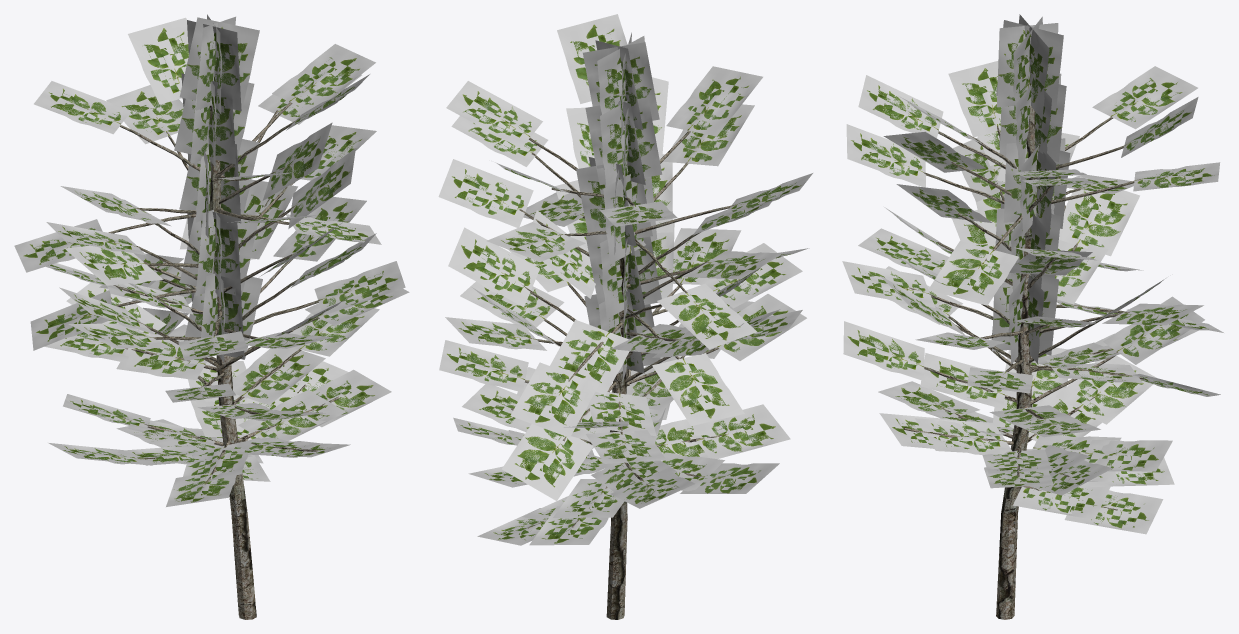
The model's file is tree.fbx.
The picture shows the model from 3 angles, left to right: view 1: azimuth 30°, elevation 25°; view 2: azimuth 150°, elevation 25°; view 3: azimuth 270°, elevation 25°; orthographic projection.
Parts seen in each view (by area): view 1: polySurface409, polySurface380, polySurface219, polySurface375, polySurface255, polySurface395, polySurface336, polySurface239, polySurface393, polySurface384, polySurface241, polySurface225 (+68 smaller); view 2: polySurface421, polySurface300, polySurface366, polySurface367, polySurface310, polySurface382, polySurface321, polySurface219, polySurface401, polySurface302, polySurface409, polySurface417 (+75 smaller); view 3: polySurface422, polySurface409, polySurface227, polySurface317, polySurface395, polySurface391, polySurface231, polySurface405, polySurface399, polySurface382, polySurface243, polySurface420 (+66 smaller).
Boxes of the visible parts, <box> form: polySurface409: <box>209,105,256,619</box>; polySurface380: <box>128,17,188,104</box>; polySurface219: <box>272,44,375,110</box>; polySurface375: <box>232,347,325,405</box>; polySurface255: <box>179,17,259,109</box>; polySurface395: <box>34,81,131,134</box>; polySurface336: <box>314,261,405,315</box>; polySurface239: <box>238,390,345,440</box>; polySurface393: <box>106,85,183,144</box>; polySurface384: <box>64,242,163,285</box>; polySurface241: <box>300,369,391,427</box>; polySurface225: <box>262,122,332,200</box>; polySurface421: <box>529,479,624,545</box>; polySurface300: <box>510,362,599,437</box>; polySurface366: <box>502,424,592,500</box>; polySurface367: <box>438,159,533,227</box>; polySurface310: <box>448,227,539,307</box>; polySurface382: <box>666,66,762,136</box>; polySurface321: <box>652,353,744,425</box>; polySurface219: <box>446,81,542,148</box>; polySurface401: <box>657,283,756,349</box>; polySurface302: <box>550,319,629,394</box>; polySurface409: <box>606,127,628,619</box>; polySurface417: <box>691,404,790,458</box>; polySurface422: <box>1013,482,1163,534</box>; polySurface409: <box>996,106,1035,619</box>; polySurface227: <box>928,241,1018,305</box>; polySurface317: <box>1059,176,1139,256</box>; polySurface395: <box>1092,66,1197,129</box>; polySurface391: <box>843,321,924,381</box>; polySurface231: <box>1055,355,1157,424</box>; polySurface405: <box>846,124,925,187</box>; polySurface399: <box>948,61,1001,137</box>; polySurface382: <box>858,75,943,138</box>; polySurface243: <box>1084,440,1172,471</box>; polySurface420: <box>1029,445,1112,495</box>.
Bounding box in the file's own units: 41.81 × 70 × 41.51.
